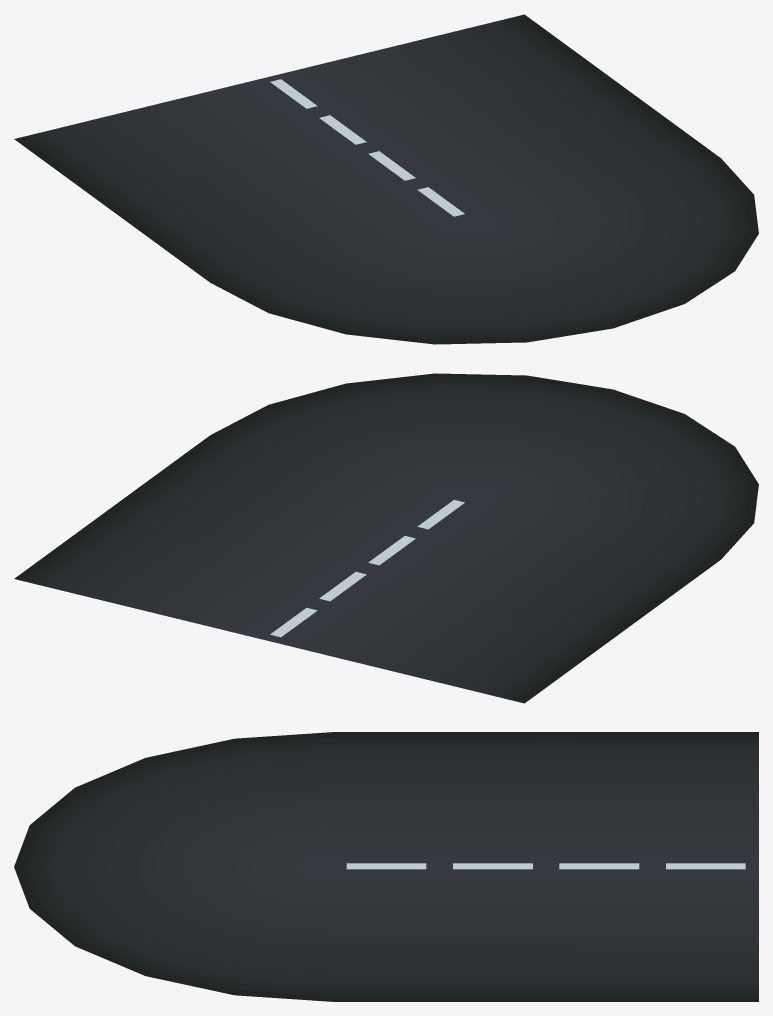
Rendered from dead_end.glb.
3 views of the same model, one above another, from view 1: azimuth 30°, elevation 25°; view 2: azimuth 150°, elevation 25°; view 3: azimuth 270°, elevation 25° (orthographic). The views are drawn at different scales.
Visible parts, largest first — view 1: road_section_dead_end.001, road_section_dead_end.002; view 2: road_section_dead_end.001, road_section_dead_end.002; view 3: road_section_dead_end.001, road_section_dead_end.002.
Boxes of the visible parts, x1,y1,x2,y2 form: road_section_dead_end.001: (14,14,758,344); road_section_dead_end.002: (270,79,464,216); road_section_dead_end.001: (14,373,758,703); road_section_dead_end.002: (270,500,464,637); road_section_dead_end.001: (14,732,758,1001); road_section_dead_end.002: (346,863,745,869).
Size of the model in its own units: 12 by 0.0158 by 14.
Materials: 1 (1 with a texture image).
